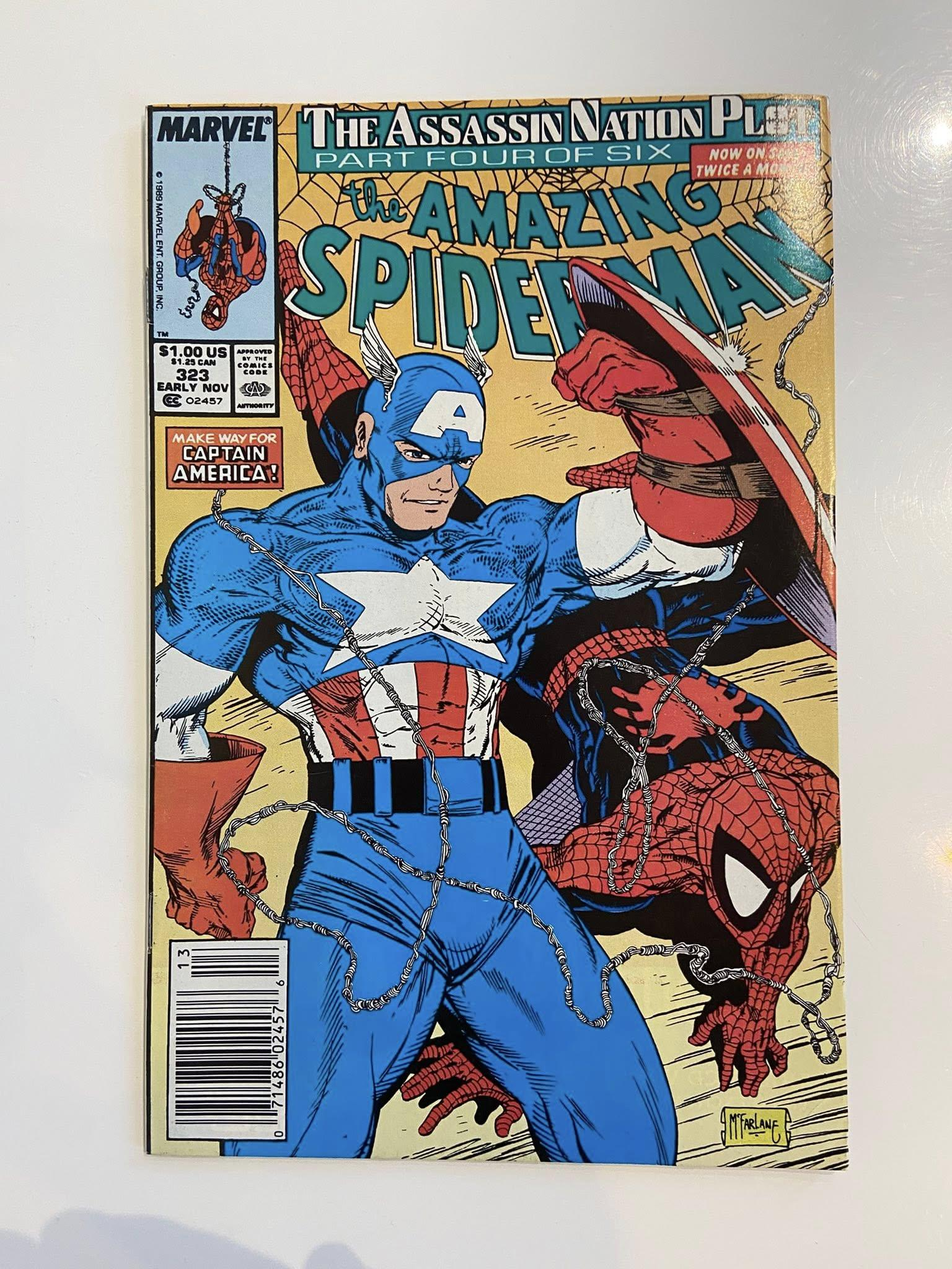comic: (145, 94, 846, 1171)
